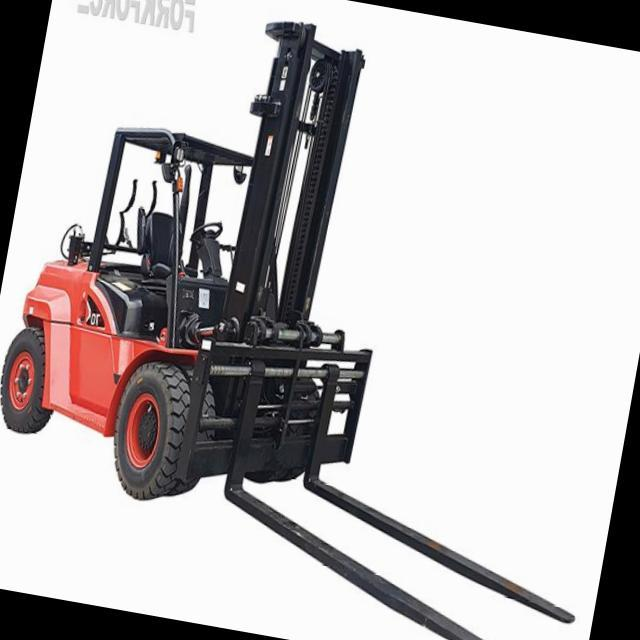forklift: (0, 0, 433, 525)
